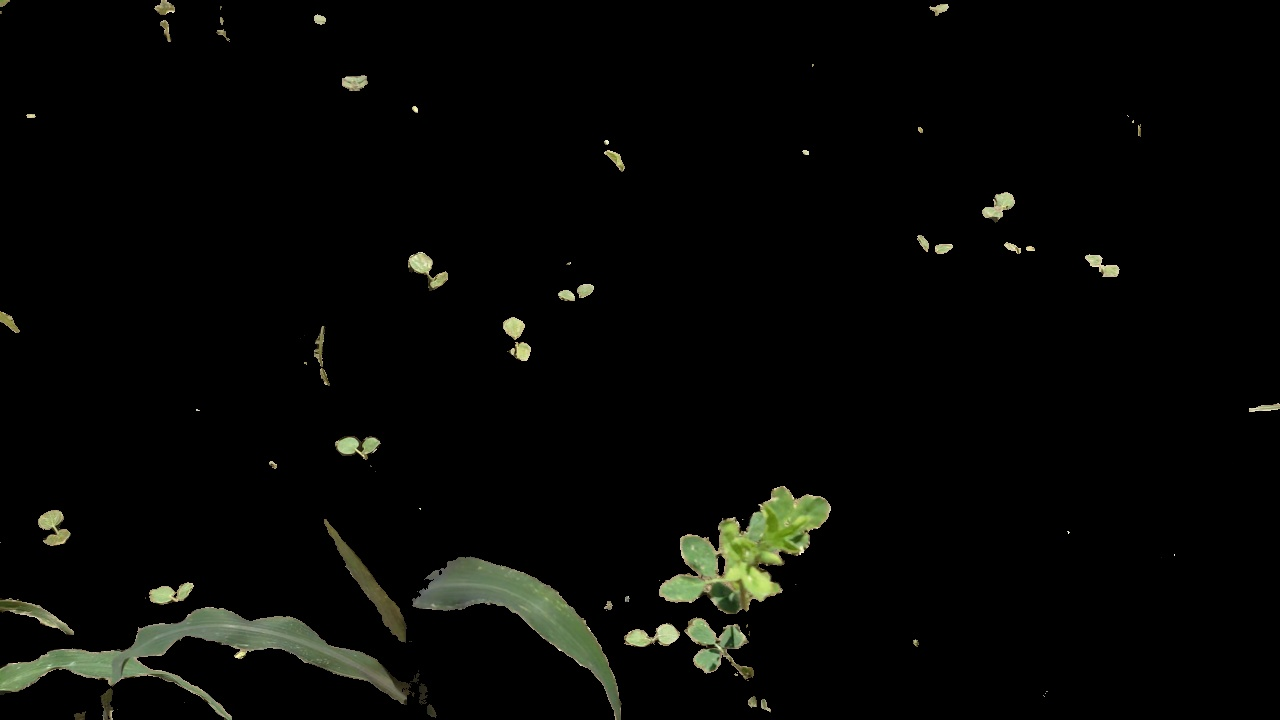crop: (115, 514, 638, 713)
weed: (646, 458, 841, 720), (405, 237, 451, 304), (1079, 239, 1127, 292), (326, 432, 394, 468), (909, 228, 959, 264), (499, 313, 535, 363), (144, 576, 205, 604), (35, 498, 67, 549), (978, 187, 1019, 222), (549, 281, 599, 308), (342, 71, 376, 101), (1000, 235, 1040, 259)
